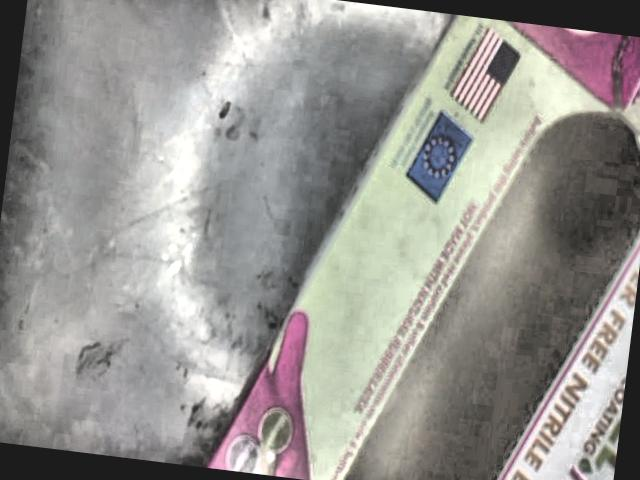Paper: (201, 15, 640, 480)
